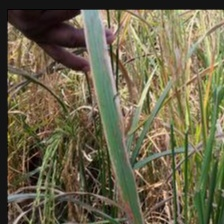Leaf_Blast: (95, 13, 134, 195)
